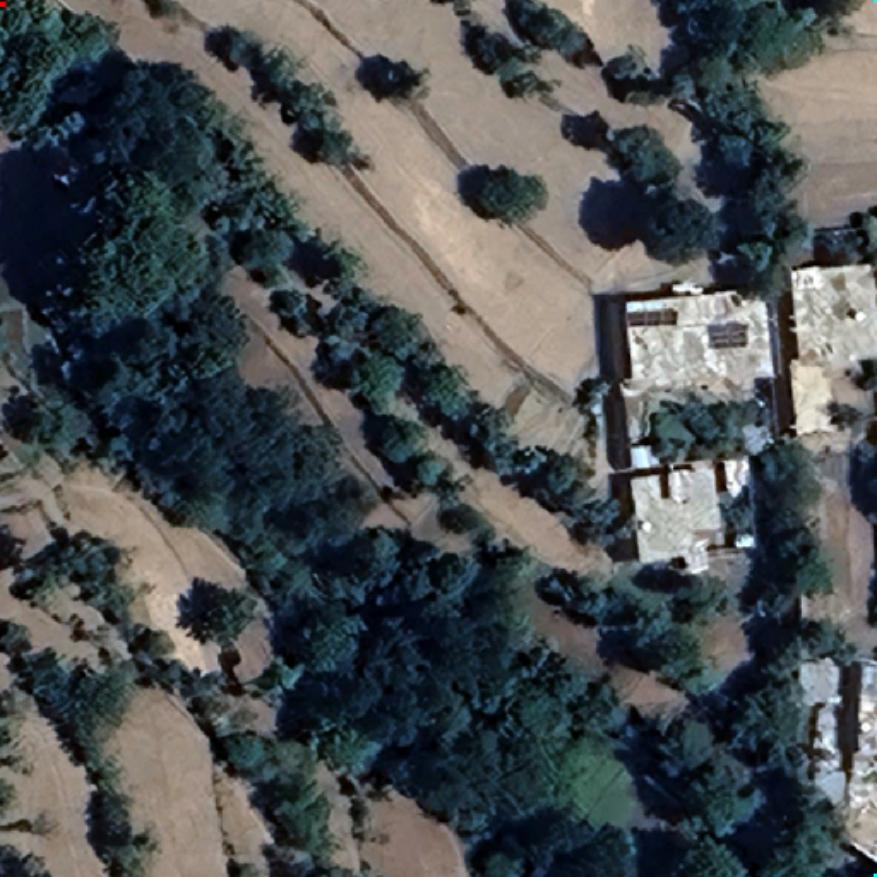Solarpanel: (706, 322, 750, 350), (624, 308, 680, 328)
